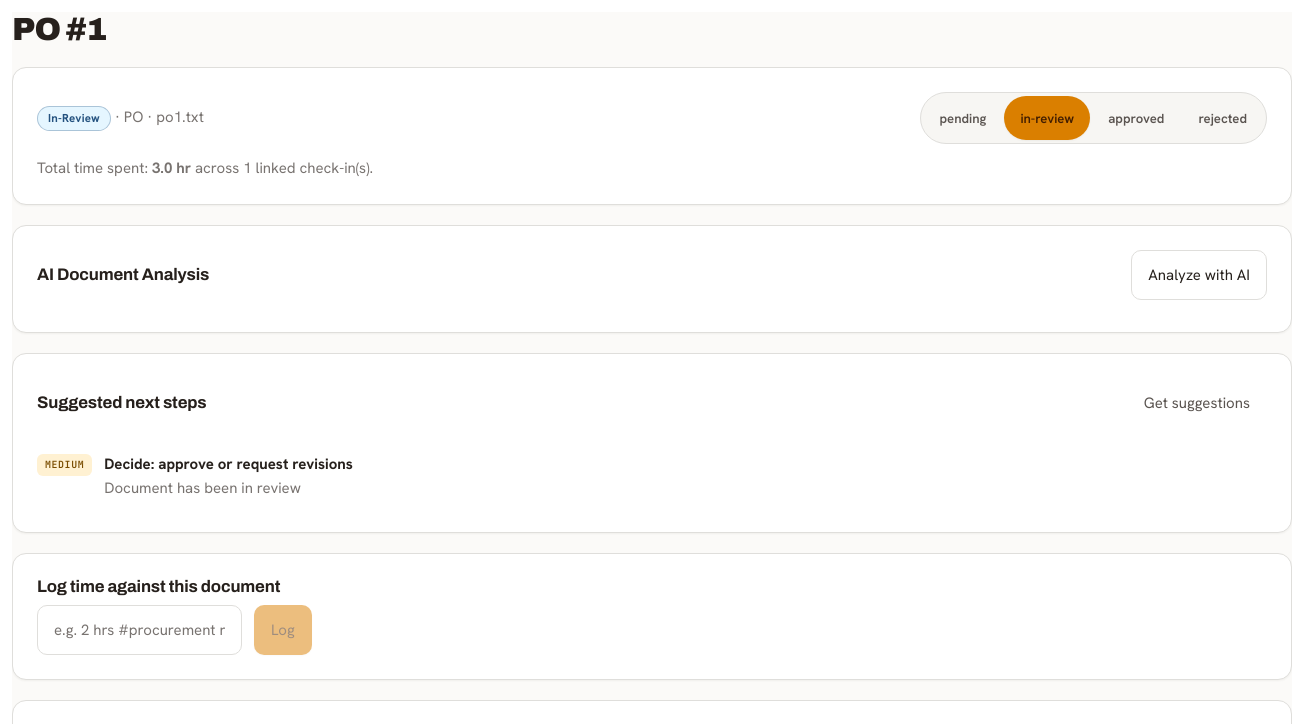
Test case: DocumentDetailPage › surfaces failed status changes and prevents duplicate updates
What coordinates should you click on to do the following:
click the button "approved"
I would click on:
 (1136, 118)
Its box is [1092,96,1180,140].
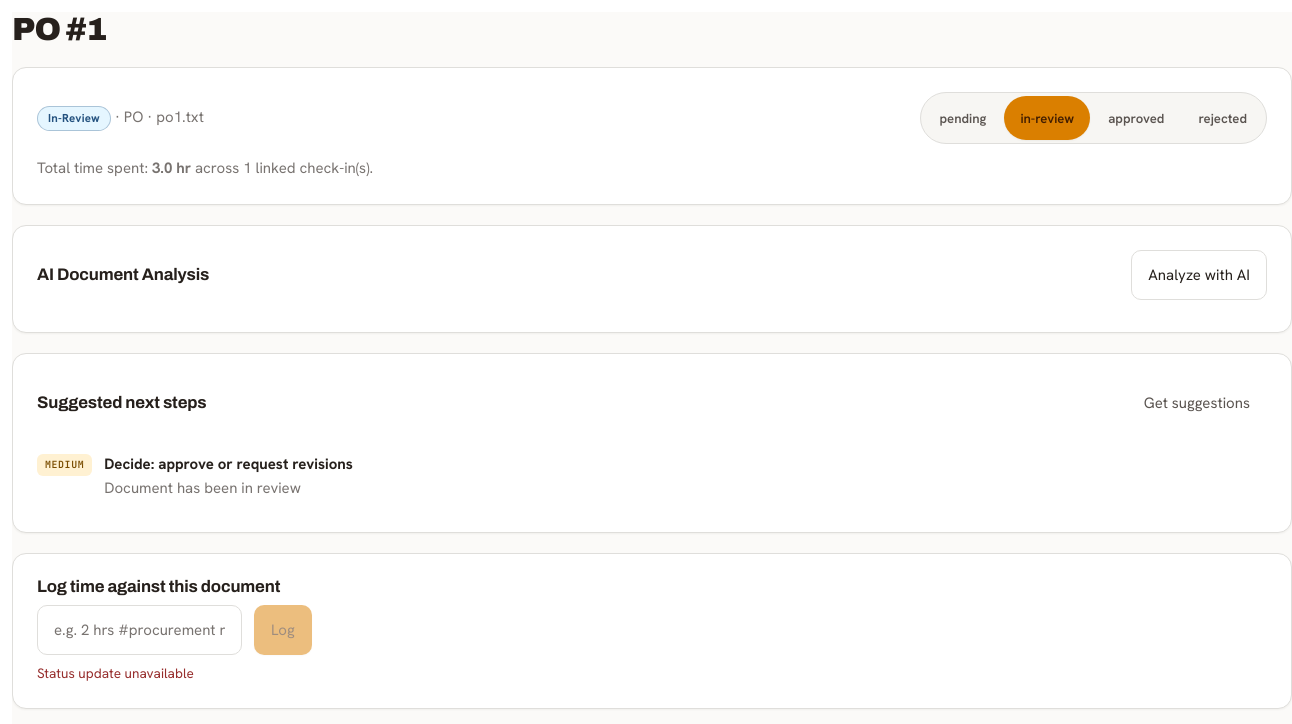
Expected: the message reads "Status update unavailable", [37,664,194,682]
